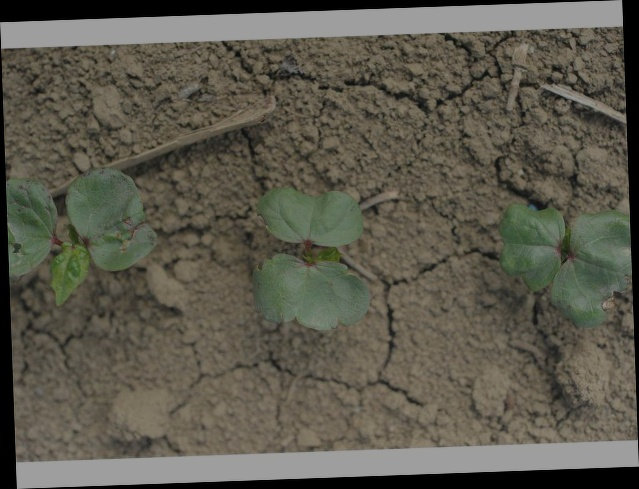cotton: (7, 168, 157, 306), (250, 186, 369, 330), (501, 202, 630, 329)
